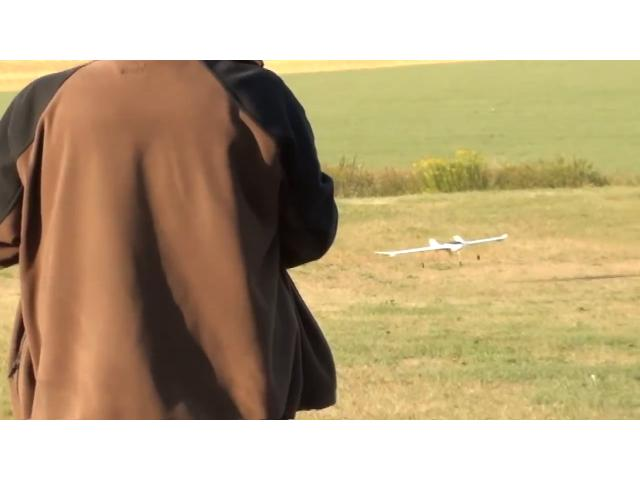Anti-Drone: (363, 224, 517, 268)
